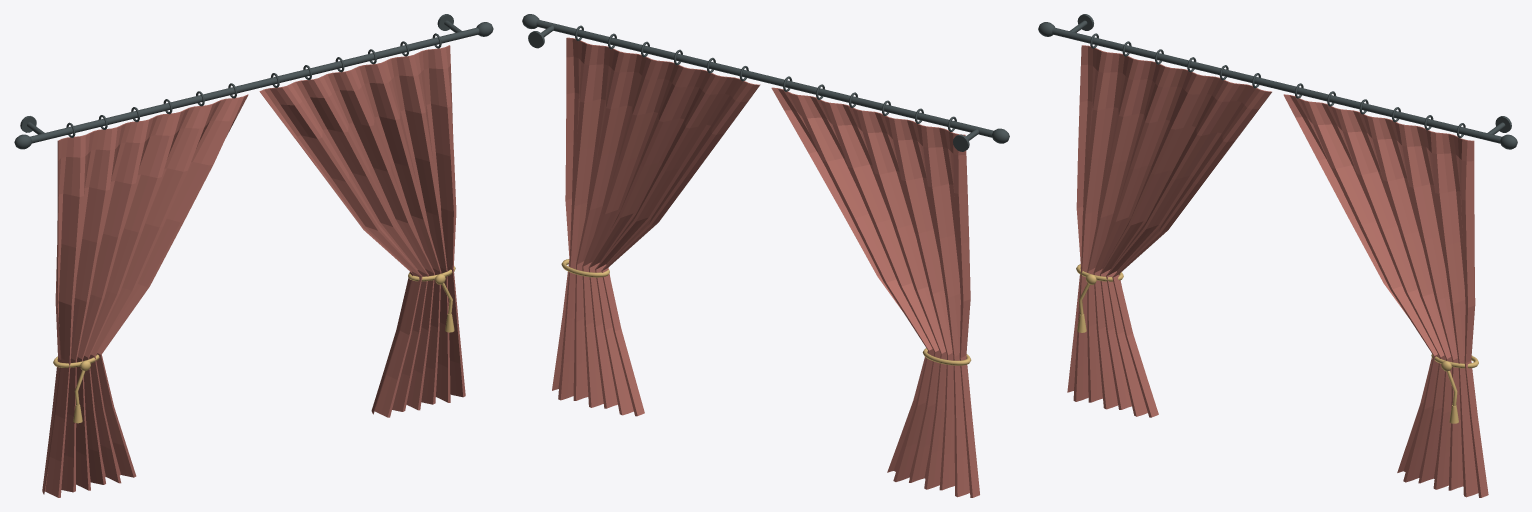
The model's file is curtains_open_tied_back.glb.
The picture shows the model from 3 angles, left to right: view 1: azimuth 30°, elevation 25°; view 2: azimuth 150°, elevation 25°; view 3: azimuth 330°, elevation 25°; orthographic projection.
Visible parts, largest first — view 1: Open_Curtain_Left, Open_Curtain_Right, Open_Curtains_Rod; view 2: Open_Curtain_Right, Open_Curtain_Left, Open_Curtains_Rod; view 3: Open_Curtain_Right, Open_Curtain_Left, Open_Curtains_Rod.
Part boxes in pixels (left/top/right/bottom): Open_Curtain_Left: left=42, top=94, right=248, bottom=497; Open_Curtain_Right: left=259, top=45, right=465, bottom=417; Open_Curtains_Rod: left=30, top=27, right=479, bottom=143; Open_Curtain_Right: left=552, top=37, right=760, bottom=416; Open_Curtain_Left: left=771, top=87, right=979, bottom=497; Open_Curtains_Rod: left=536, top=20, right=993, bottom=137; Open_Curtain_Right: left=1283, top=94, right=1488, bottom=497; Open_Curtain_Left: left=1067, top=45, right=1271, bottom=417; Open_Curtains_Rod: left=1052, top=27, right=1501, bottom=143.
Bounding box in the file's own units: 3.37 × 2.48 × 0.364.
